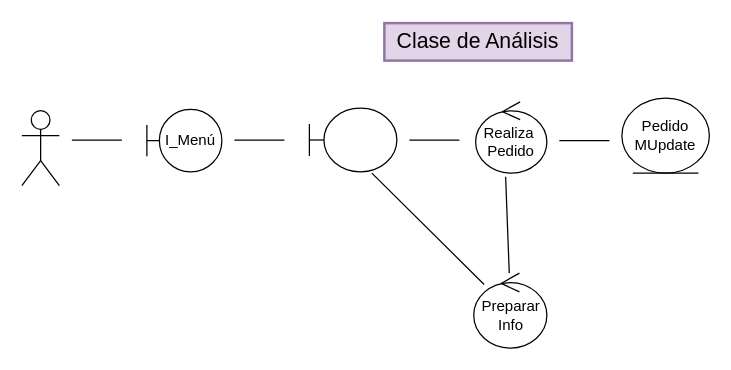
The diagram is 731 pixels wide and 370 high, and some of its shapes have lost their labels. The centre of each missing label's shape, as x and y in pixels:
"Actor" goes at (40,147).
"I_Pedido" goes at (352,139).
